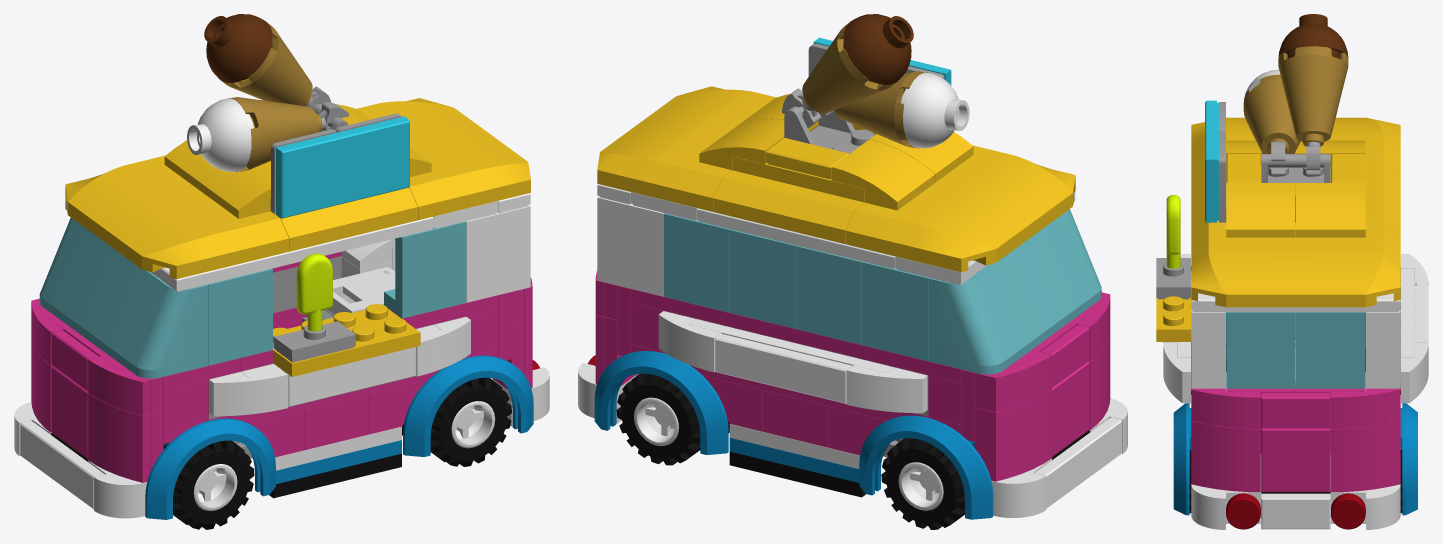
The model's file is Summer3.fbx.
3 renders of one model, left to right at view 1: azimuth 30°, elevation 25°; view 2: azimuth 150°, elevation 25°; view 3: azimuth 270°, elevation 25°, orthographic. The views are drawn at different scales.
Visible parts, largest first — view 1: part.072, part.152, part.071, part.073, part.178, part.133, part.177, part.158, part.159, part.063, part.113, part.033 (+46 smaller); view 2: part.072, part.152, part.071, part.063, part.171, part.174, part.132, part.172, part.173, part.157, part.156, part.099 (+45 smaller); view 3: part.071, part.175, part.176, part.068, part.010, part.011, part.020, part.054, part.055, part.072, part.063, part.067 (+33 smaller).
Part boxes in pixels (left/top/right/bottom): part.072: left=65, top=155, right=289, bottom=279; part.152: left=39, top=217, right=208, bottom=378; part.071: left=357, top=98, right=530, bottom=220; part.073: left=276, top=116, right=409, bottom=218; part.178: left=384, top=221, right=466, bottom=318; part.133: left=465, top=205, right=530, bottom=302; part.177: left=208, top=268, right=272, bottom=365; part.158: left=145, top=418, right=275, bottom=519; part.159: left=403, top=355, right=533, bottom=456; part.063: left=270, top=187, right=417, bottom=251; part.113: left=273, top=304, right=420, bottom=376; part.033: left=88, top=393, right=150, bottom=482; part.072: left=845, top=145, right=1075, bottom=272; part.152: left=928, top=209, right=1101, bottom=374; part.071: left=597, top=86, right=776, bottom=211; part.063: left=713, top=170, right=864, bottom=243; part.171: left=663, top=213, right=730, bottom=312; part.174: left=862, top=261, right=928, bottom=361; part.132: left=597, top=196, right=664, bottom=296; part.172: left=729, top=229, right=796, bottom=328; part.173: left=796, top=245, right=862, bottom=344; part.157: left=859, top=415, right=993, bottom=519; part.156: left=594, top=351, right=728, bottom=454; part.099: left=715, top=333, right=852, bottom=403; part.071: left=1191, top=223, right=1400, bottom=307; part.175: left=1296, top=312, right=1365, bottom=388; part.176: left=1226, top=312, right=1295, bottom=388; part.068: left=1278, top=46, right=1348, bottom=146; part.010: left=1331, top=421, right=1400, bottom=492; part.011: left=1191, top=421, right=1260, bottom=492; part.020: left=1261, top=428, right=1330, bottom=491; part.054: left=1296, top=183, right=1365, bottom=237; part.055: left=1226, top=183, right=1295, bottom=237; part.072: left=1191, top=117, right=1400, bottom=176; part.063: left=1191, top=164, right=1400, bottom=235; part.067: left=1243, top=74, right=1300, bottom=153.
Size of the model in its own units: 11196 by 10465 by 6234.
